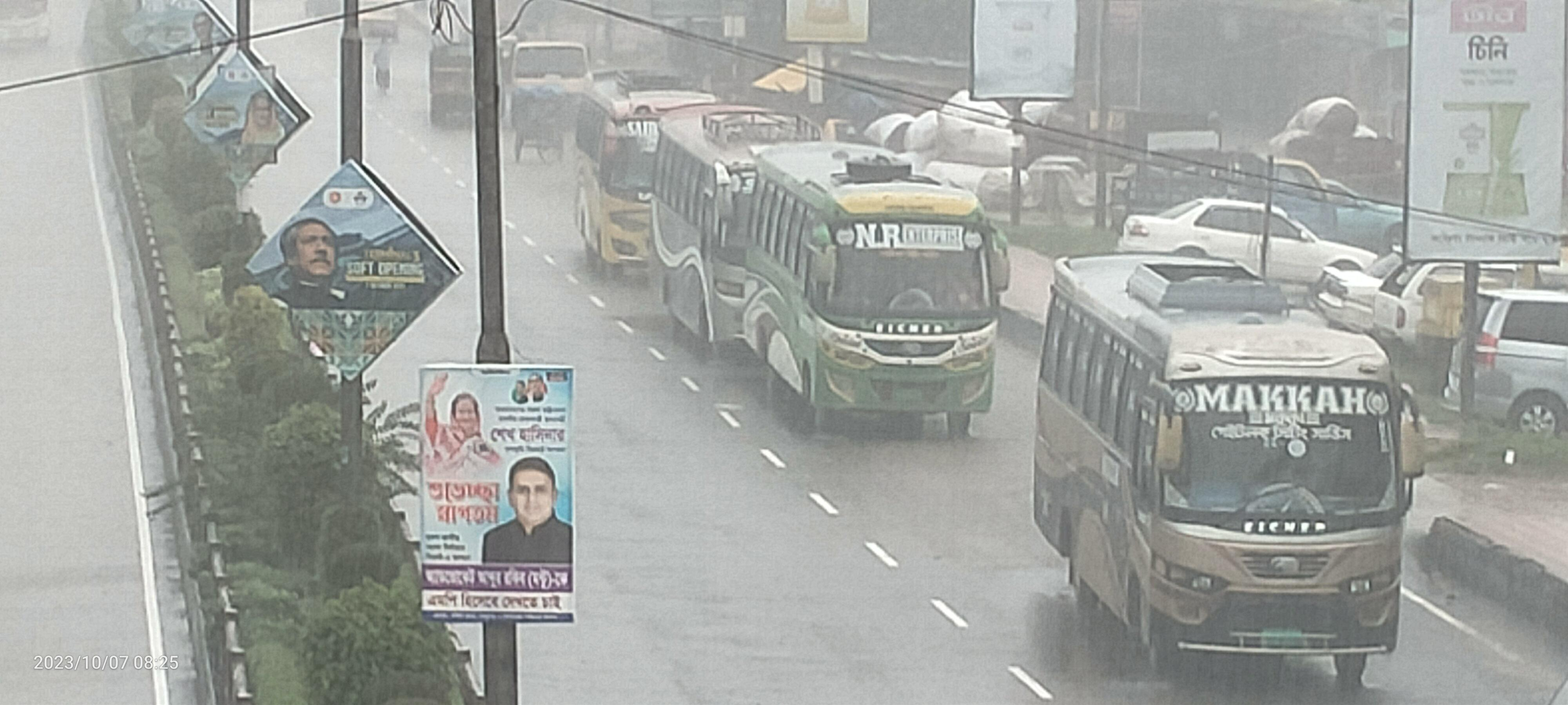Bus: (1018, 219, 1460, 705), (723, 130, 1007, 475), (630, 89, 779, 362), (558, 58, 695, 302)
Car: (1082, 163, 1419, 315), (1446, 233, 1568, 453), (1305, 219, 1460, 351), (489, 69, 599, 180)
